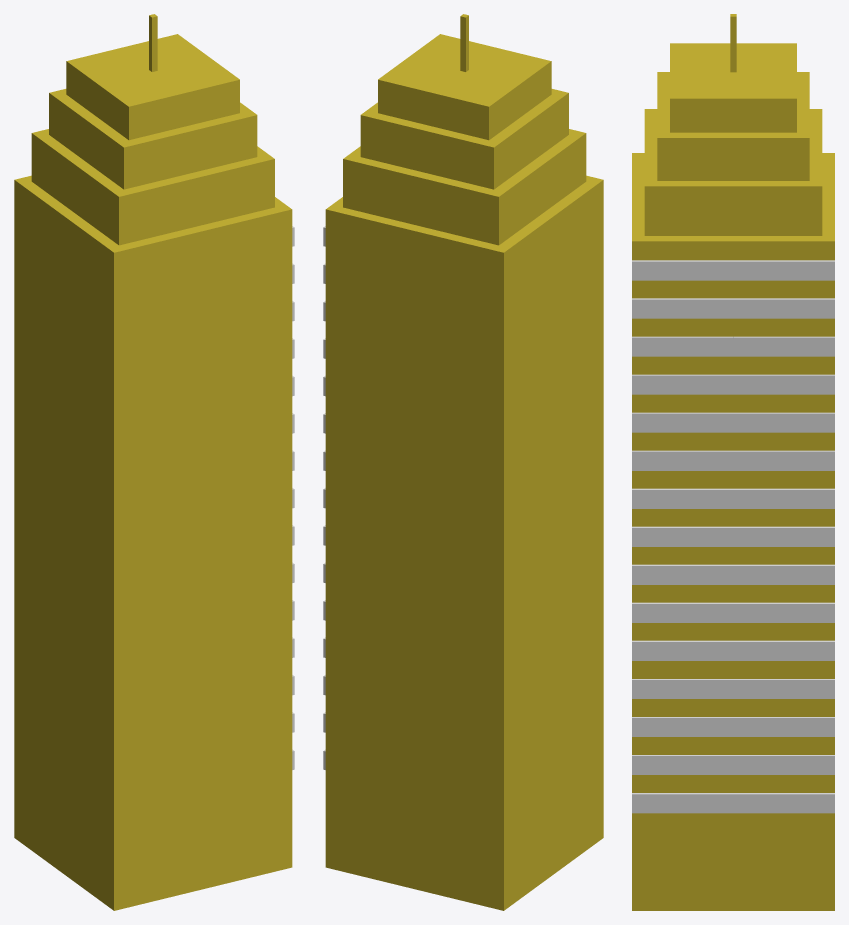
File: predio4.fbx
3 renders of one model, left to right at view 1: azimuth 30°, elevation 25°; view 2: azimuth 150°, elevation 25°; view 3: azimuth 270°, elevation 25°, orthographic.
Visible parts, largest first — view 1: Cube; view 2: Cube; view 3: Cube.
Part boxes in pixels (left/top/right/bottom): Cube: left=14, top=14, right=294, bottom=910; Cube: left=323, top=14, right=603, bottom=910; Cube: left=632, top=14, right=834, bottom=910.
Bounding box in the file's own units: 339 × 1504 × 325.
